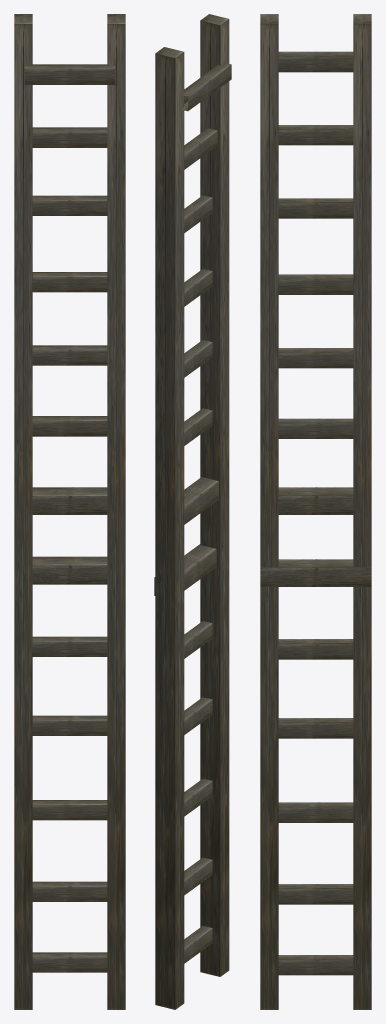
Rendered from ladderold.glb.
3 views of the same model, side by side, from view 1: azimuth 90°, elevation 25°; view 2: azimuth 150°, elevation 25°; view 3: azimuth 270°, elevation 25° (orthographic). The views are drawn at different scales.
Parts seen in each view (by area): view 1: ladder.ms3d.mo; view 2: ladder.ms3d.mo; view 3: ladder.ms3d.mo.
Boxes of the visible parts, left/top/right/bottom form: ladder.ms3d.mo: left=14, top=14, right=125, bottom=1009; ladder.ms3d.mo: left=154, top=14, right=231, bottom=1009; ladder.ms3d.mo: left=260, top=14, right=371, bottom=1009.
Size of the model in its own units: 2.86 by 90.55 by 9.28.
1 material, 1 textured.
